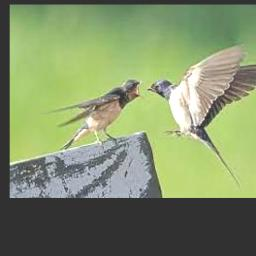Swallow: (147, 44, 256, 188), (45, 79, 144, 150)
